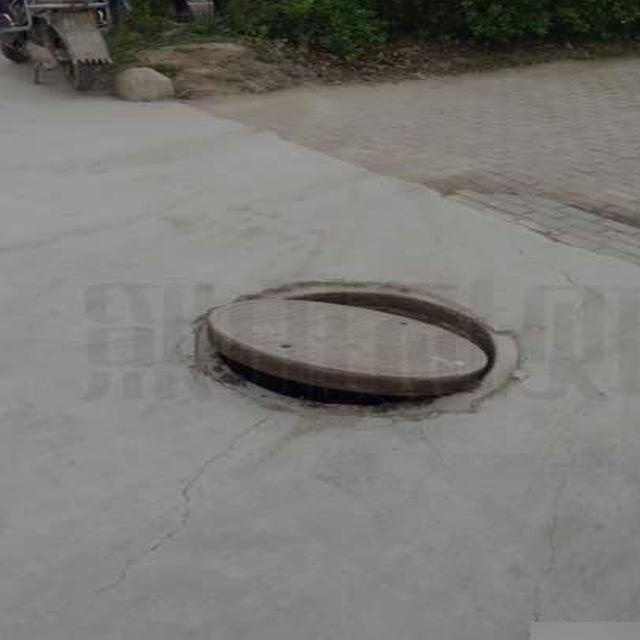uncovered: (187, 282, 520, 419)
